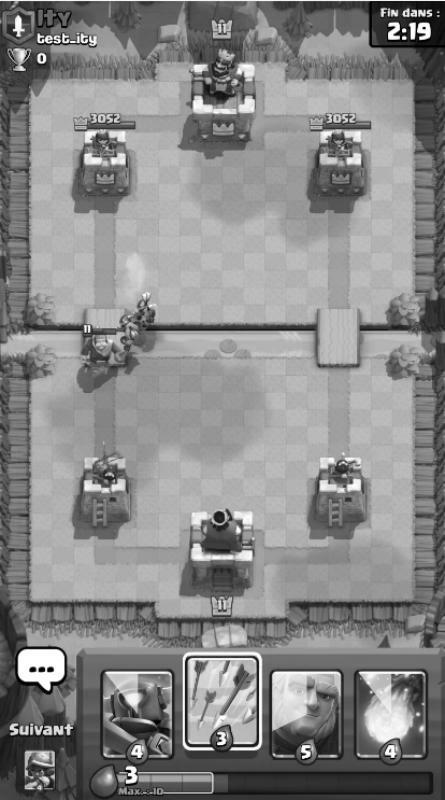chevalier: (79, 324, 130, 375)
gargouille: (132, 293, 157, 328), (116, 314, 139, 351)
